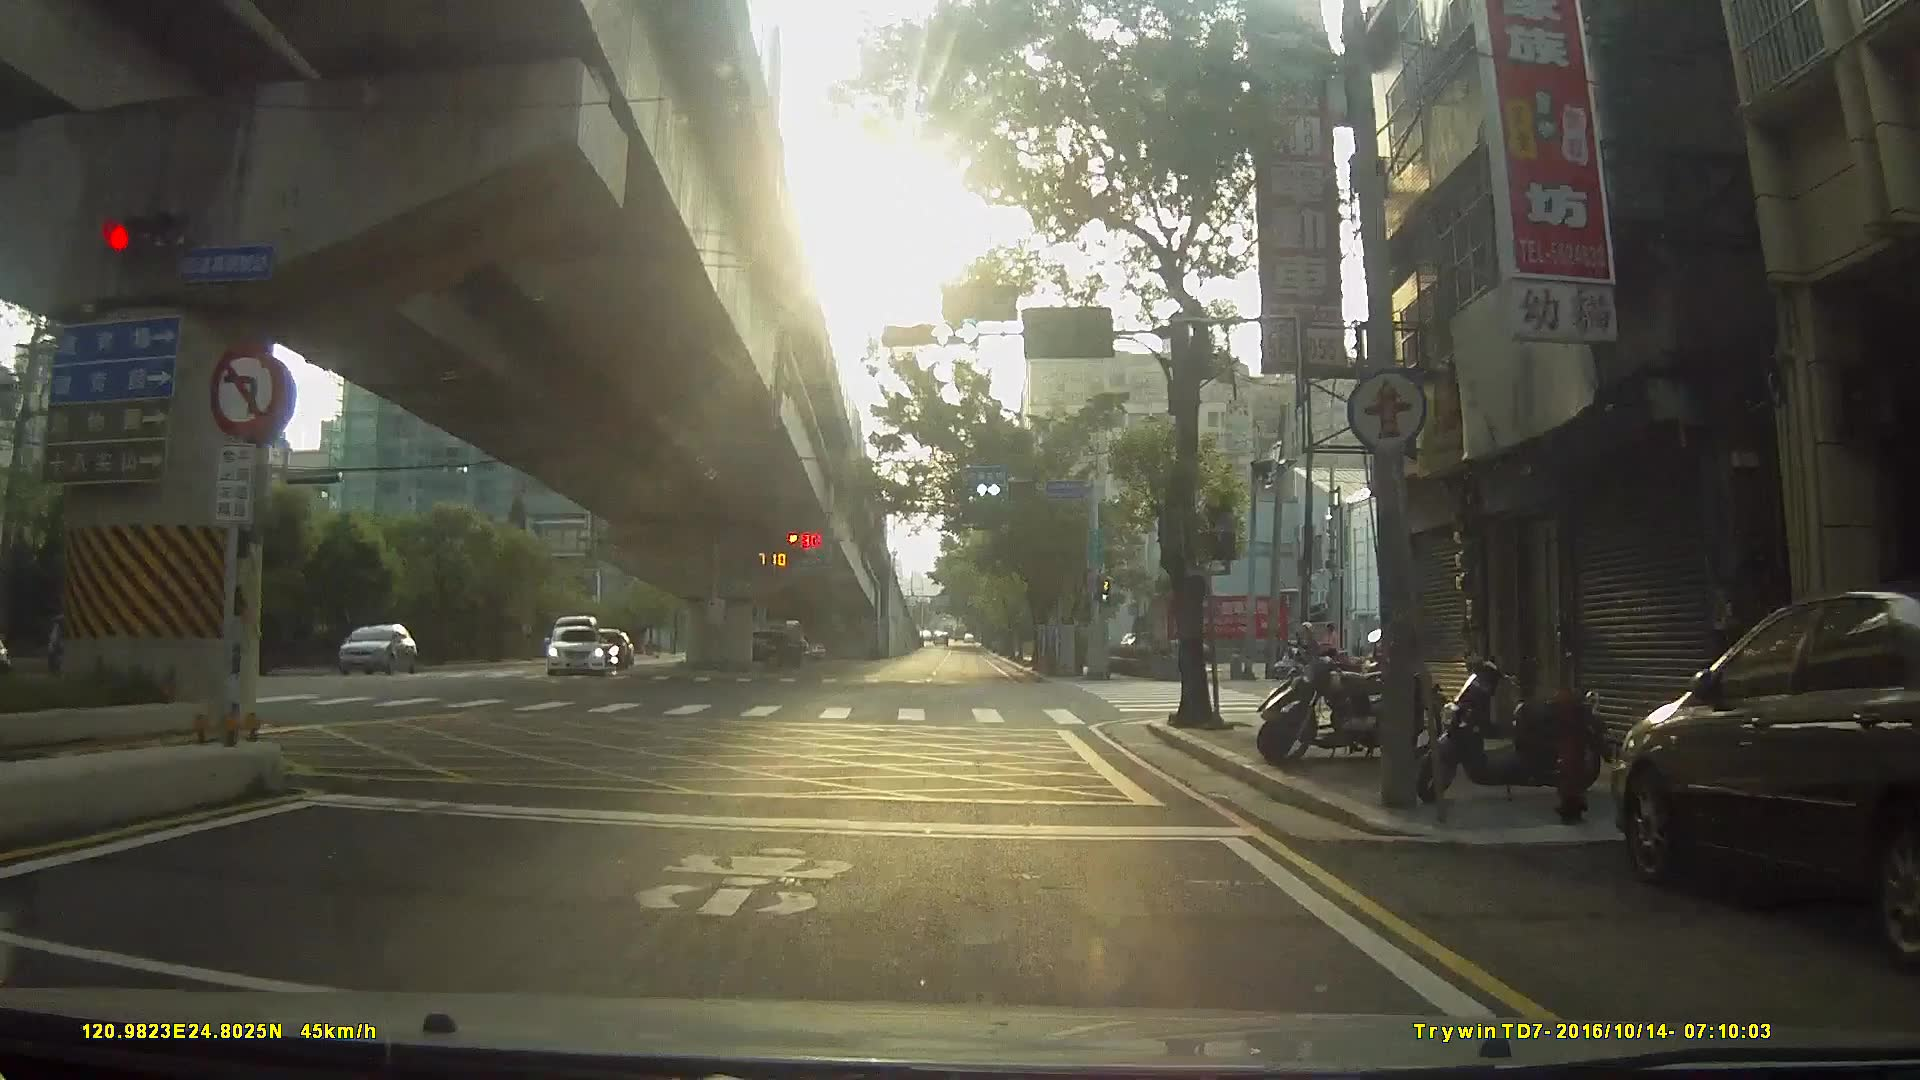vehicle: (1601, 583, 1920, 982), (327, 621, 410, 676), (539, 622, 605, 676), (731, 626, 804, 667)
